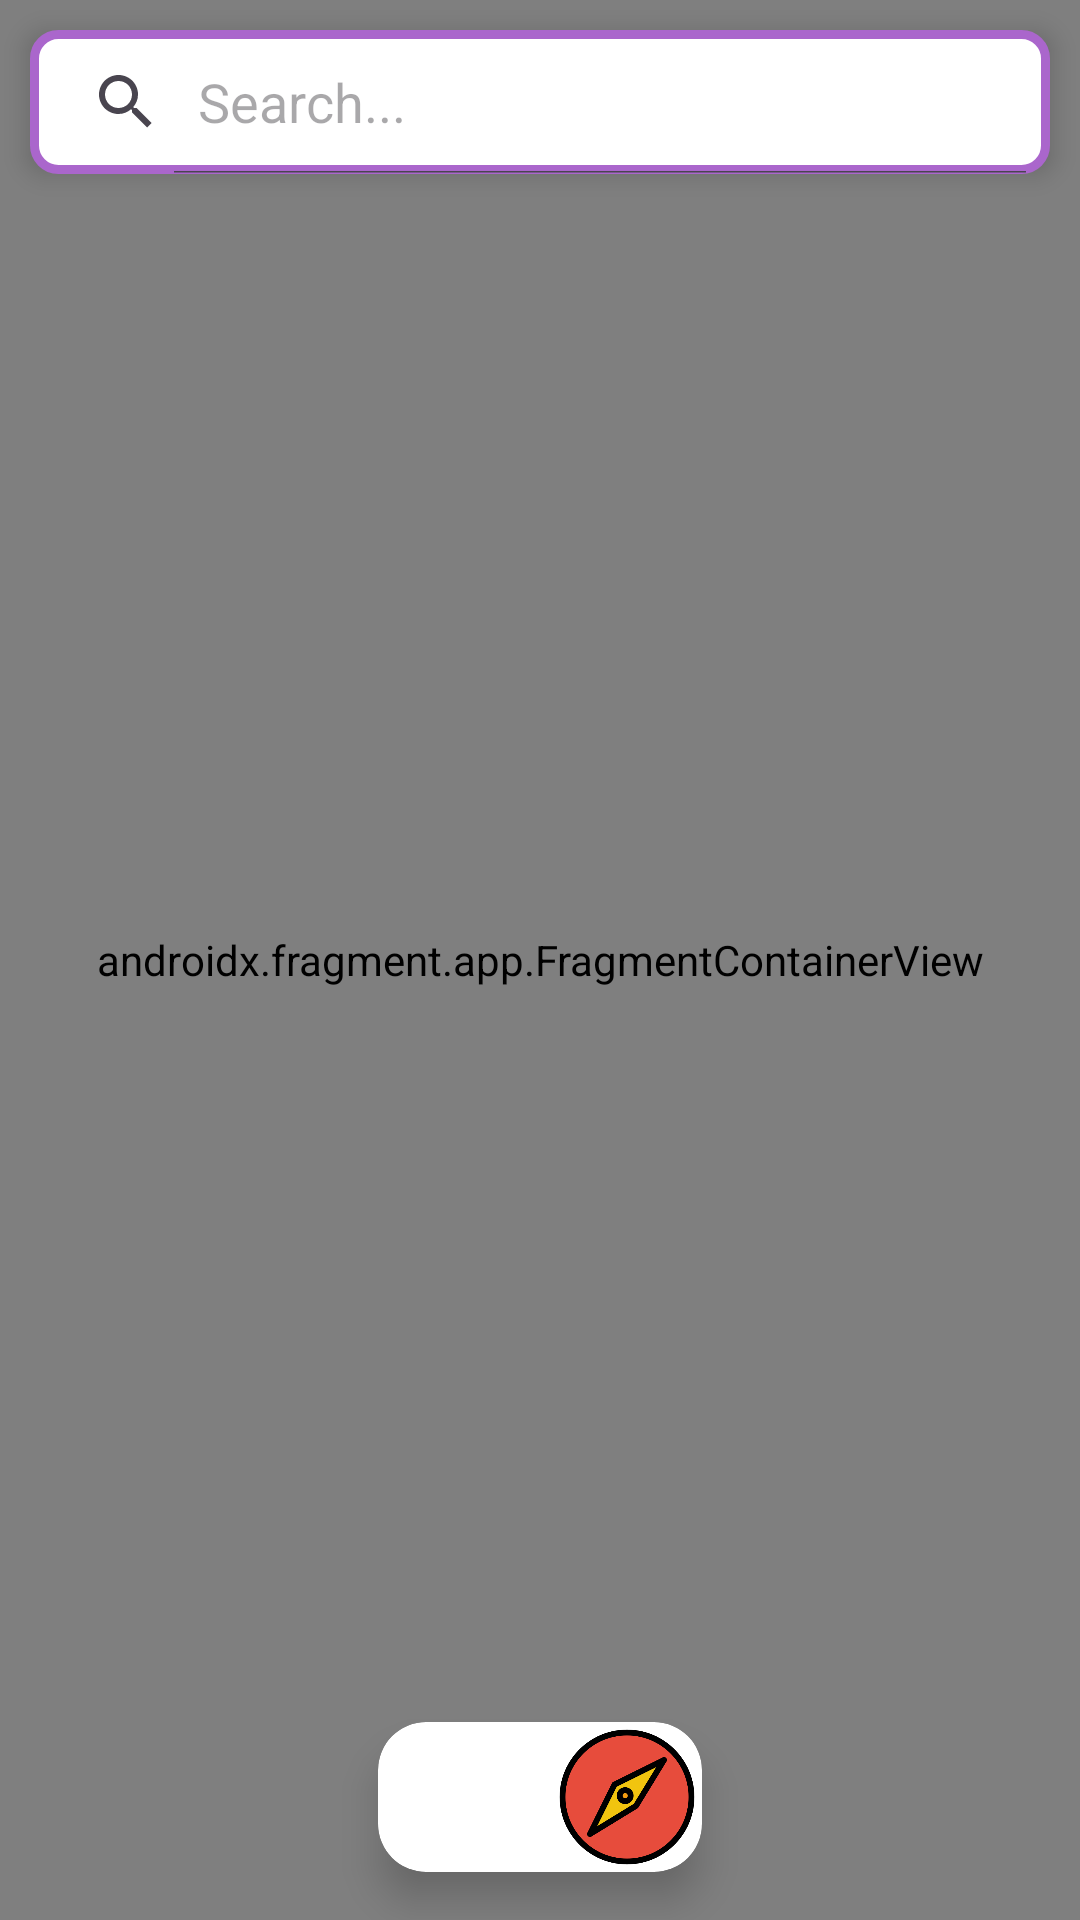

Point at icon controls on the screen. Image size 1080w x 1920h, points as [x,y].
Navigate: [627,1797]
